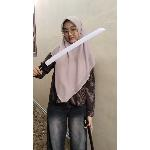Pedang: (34, 27, 109, 73)
